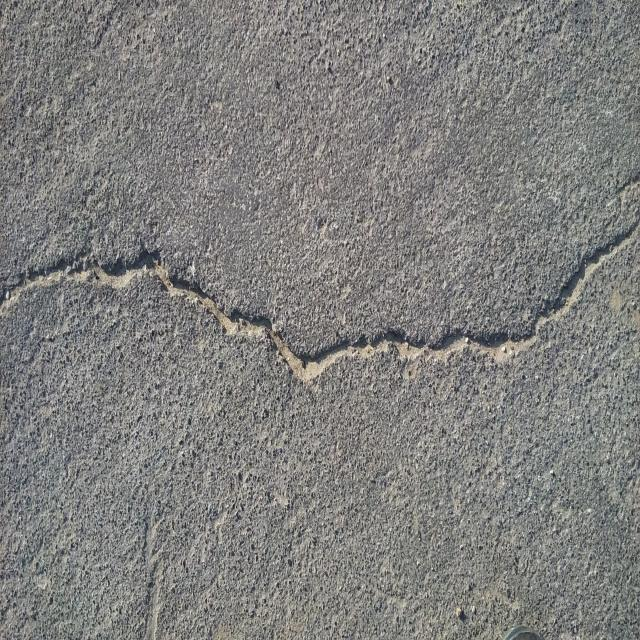transverse: (0, 194, 633, 406)
